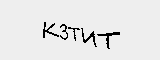З: (59, 23, 68, 40)
И: (81, 29, 97, 46)
К: (42, 22, 57, 39)
Т: (98, 28, 123, 50), (69, 27, 80, 41)
